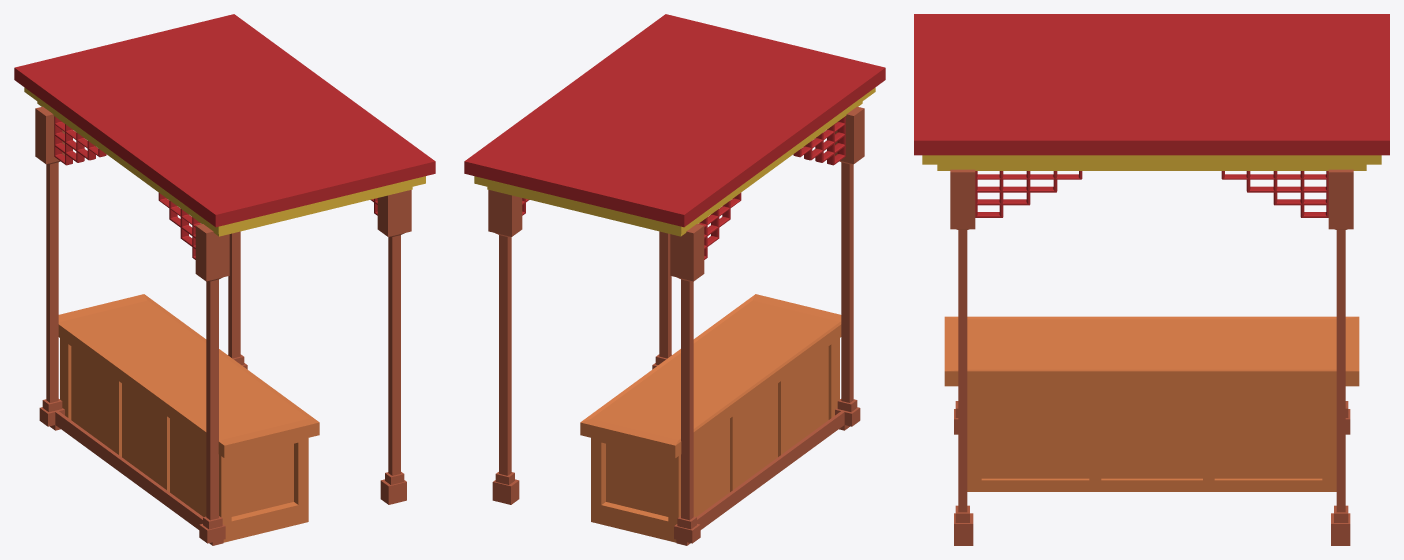
Rendered from Booth2.1.fbx.
3 views of the same model, side by side, from view 1: azimuth 30°, elevation 25°; view 2: azimuth 150°, elevation 25°; view 3: azimuth 270°, elevation 25° (orthographic). The views are drawn at different scales.
Visible parts, largest first — view 1: Cube.001, body, Cube, body1, Cube.007, Cube.006; view 2: Cube.001, body, Cube, body1, Cube.007, Cube.006; view 3: Cube.001, body, Cube, Cube.007, Cube.006, body1.
Boxes of the visible parts, x1,y1,x2,y2 form: Cube.001: [14, 14, 435, 227]; body: [58, 294, 319, 542]; Cube: [35, 106, 411, 529]; body1: [39, 363, 406, 545]; Cube.007: [24, 87, 425, 236]; Cube.006: [54, 116, 377, 259]; Cube.001: [464, 14, 885, 227]; body: [580, 294, 841, 542]; Cube: [488, 106, 864, 529]; body1: [492, 363, 860, 545]; Cube.007: [474, 87, 875, 236]; Cube.006: [522, 116, 845, 259]; Cube.001: [914, 14, 1389, 155]; body: [944, 316, 1359, 491]; Cube: [950, 169, 1353, 522]; Cube.007: [922, 155, 1381, 170]; Cube.006: [975, 171, 1328, 217]; body1: [954, 409, 1350, 545].
Size of the model in its own units: 706 by 1072 by 1120.
